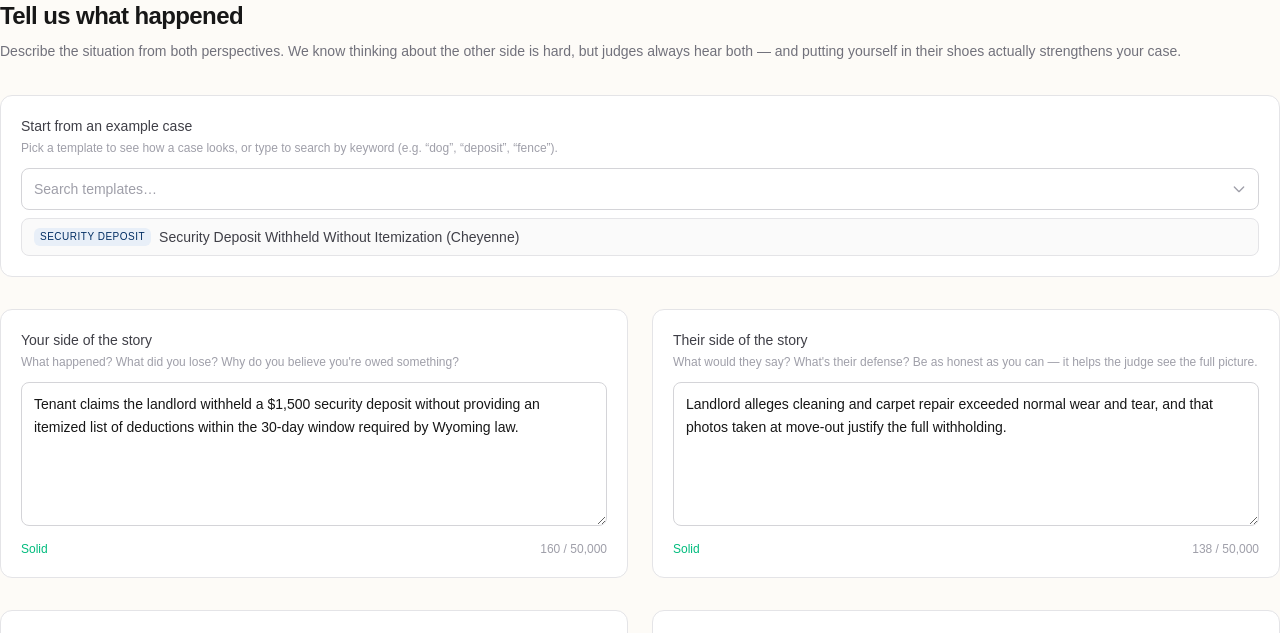
StoryStep › shows template list when combobox is focused
Focus the dropdown. click: (640, 189)
box: [21,168,1259,210]
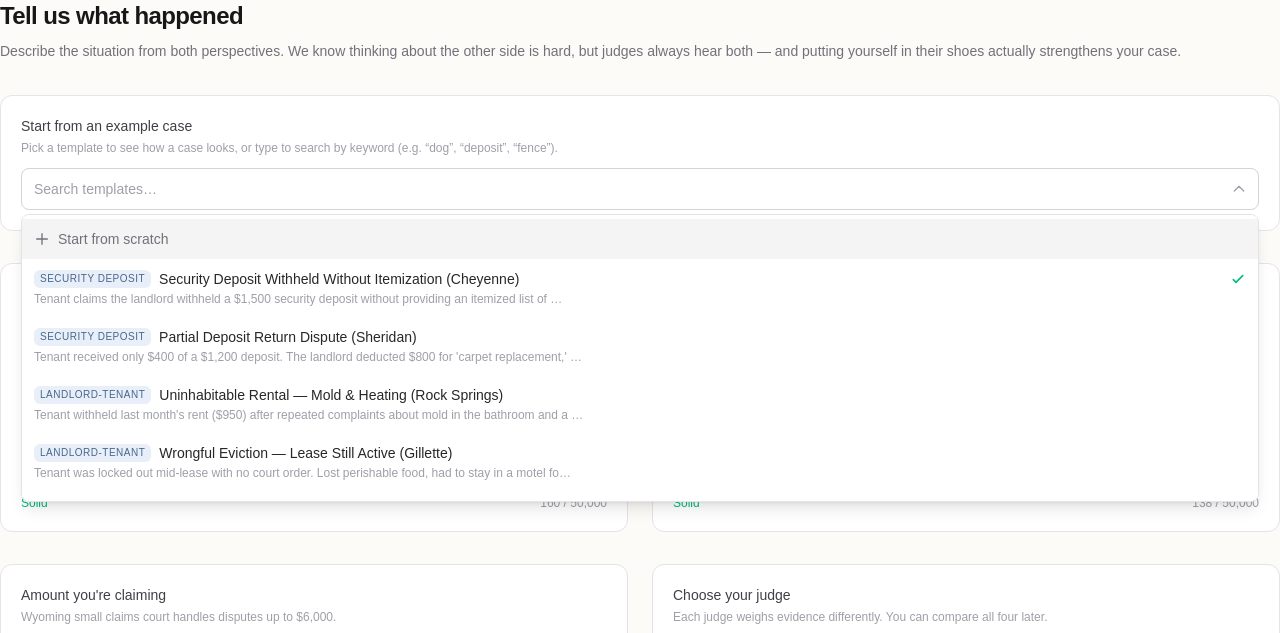
Expected: the list is shown, [21,214,1259,502]
Expected: the text "Start from scratch" is shown, [34,231,168,247]
